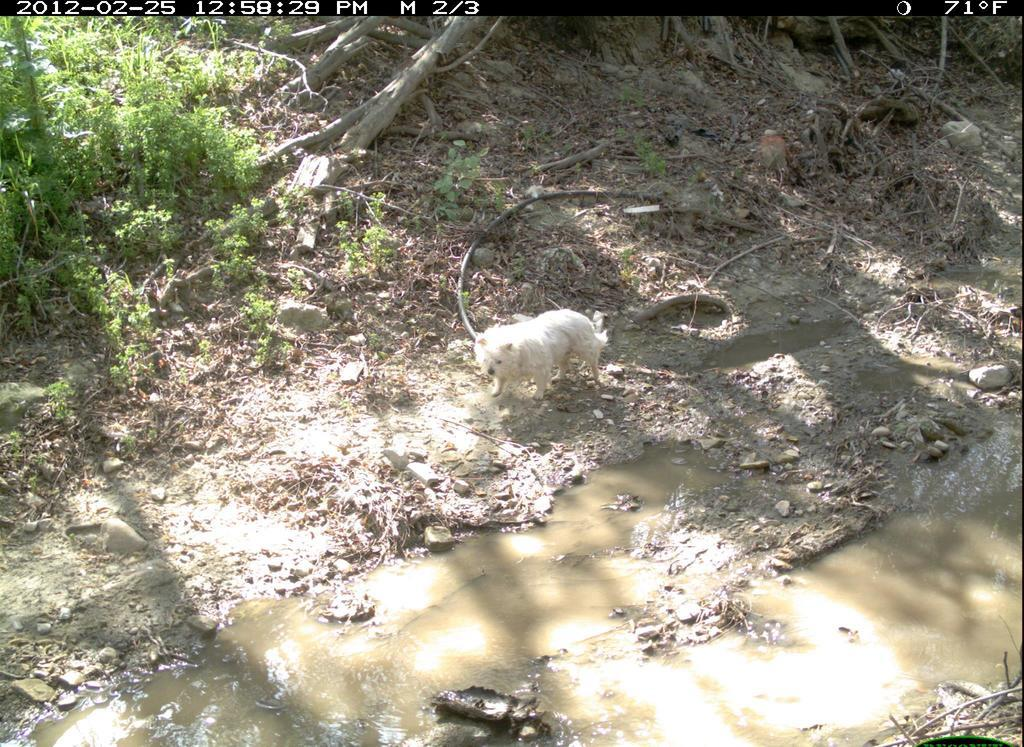dog: (469, 299, 617, 413)
